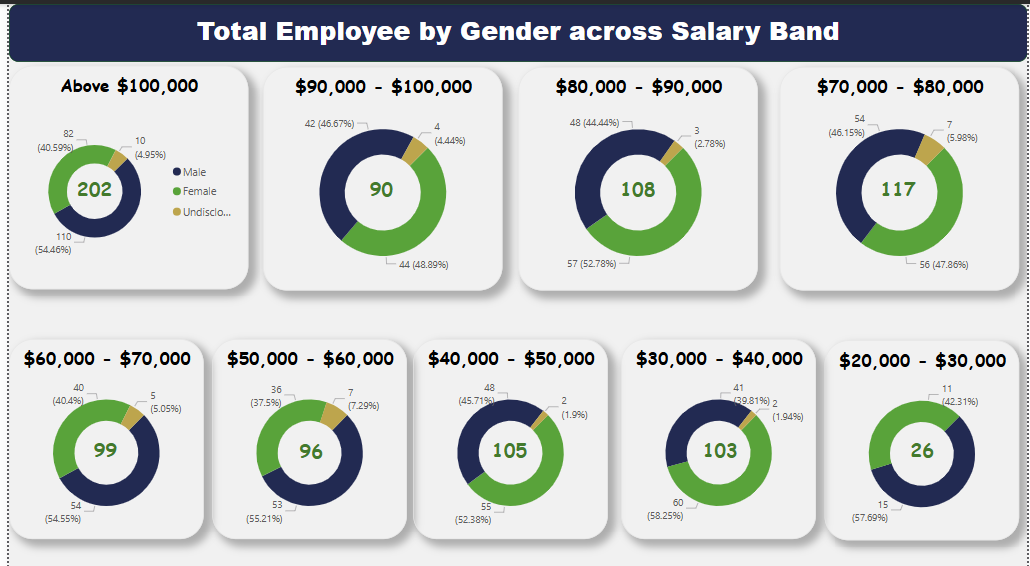

The page's visual inventory and layout, read from the dashboard file:
{"tool":"powerbi","page":{"name":"Page 3","canvas":[1280,720],"ordinal":2},"visuals":[{"type":"textbox","box":[0,0,1280.3,72.9],"z":0},{"type":"donutChart","title":"Above $100,000","fields":{"Series":["Palmoria Group emp-data.Salary Band"],"Category":["Palmoria Group emp-data.Gender"],"Y":["Palmoria Group emp-data.TotalEmployee"]},"box":[0,80.6,301.1,281.3],"z":1000},{"type":"donutChart","title":"$90,000 - $100,000","fields":{"Series":["Palmoria Group emp-data.Salary Band"],"Category":["Palmoria Group emp-data.Gender"],"Y":["Palmoria Group emp-data.TotalEmployee"]},"box":[319.3,79.1,301.1,281.3],"z":2000},{"type":"donutChart","title":"$80,000 - $90,000","fields":{"Series":["Palmoria Group emp-data.Salary Band"],"Category":["Palmoria Group emp-data.Gender"],"Y":["Palmoria Group emp-data.TotalEmployee"]},"box":[640.2,79.1,301.1,281.3],"z":3000},{"type":"donutChart","title":"$70,000 - $80,000","fields":{"Series":["Palmoria Group emp-data.Salary Band"],"Category":["Palmoria Group emp-data.Gender"],"Y":["Palmoria Group emp-data.TotalEmployee"]},"box":[968.6,79.1,301.1,281.3],"z":4000},{"type":"donutChart","title":"$60,000 - $70,000","fields":{"Series":["Palmoria Group emp-data.Salary Band"],"Category":["Palmoria Group emp-data.Gender"],"Y":["Palmoria Group emp-data.TotalEmployee"]},"box":[0,421.2,244.8,250.9],"z":5000},{"type":"donutChart","title":"$50,000 - $60,000","fields":{"Series":["Palmoria Group emp-data.Salary Band"],"Category":["Palmoria Group emp-data.Gender"],"Y":["Palmoria Group emp-data.TotalEmployee"]},"box":[258.5,421.2,244.8,250.9],"z":6000},{"type":"donutChart","title":"$40,000 - $50,000","fields":{"Series":["Palmoria Group emp-data.Salary Band"],"Category":["Palmoria Group emp-data.Gender"],"Y":["Palmoria Group emp-data.TotalEmployee"]},"box":[515.5,421.2,244.8,250.9],"z":7000},{"type":"donutChart","title":"$30,000 - $40,000","fields":{"Series":["Palmoria Group emp-data.Salary Band"],"Category":["Palmoria Group emp-data.Gender"],"Y":["Palmoria Group emp-data.TotalEmployee"]},"box":[772.5,421.2,244.8,250.9],"z":8000},{"type":"donutChart","title":"$20,000 - $30,000","fields":{"Series":["Palmoria Group emp-data.Salary Band"],"Category":["Palmoria Group emp-data.Gender"],"Y":["Palmoria Group emp-data.TotalEmployee"]},"box":[1028,421.2,244.8,250.9],"z":9000},{"type":"card","fields":{"Values":["Palmoria Group emp-data.TotalEmployee"]},"box":[746.8,204.5,87.1,58.7],"z":10000},{"type":"card","fields":{"Values":["Palmoria Group emp-data.TotalEmployee"]},"box":[108,222,86.7,59.3],"z":11000},{"type":"card","fields":{"Values":["Palmoria Group emp-data.TotalEmployee"]},"box":[1075.1,203.8,88.2,59.3],"z":12000},{"type":"card","fields":{"Values":["Palmoria Group emp-data.TotalEmployee"]},"box":[78.2,531.7,87.1,58.7],"z":13000},{"type":"card","fields":{"Values":["Palmoria Group emp-data.TotalEmployee"]},"box":[336.1,533.4,87.1,58.7],"z":14000},{"type":"card","fields":{"Values":["Palmoria Group emp-data.TotalEmployee"]},"box":[593.1,533.7,86.7,57.8],"z":15000},{"type":"card","fields":{"Values":["Palmoria Group emp-data.TotalEmployee"]},"box":[850,531.7,87.1,58.7],"z":16000},{"type":"card","fields":{"Values":["Palmoria Group emp-data.TotalEmployee"]},"box":[1104.2,531.7,87.1,58.7],"z":17000},{"type":"card","fields":{"Values":["Palmoria Group emp-data.TotalEmployee"]},"box":[425,204.5,87.1,58.7],"z":18000}]}

Visuals, with their boxes in screenshot pixels (x1, y1, x2, y2), scaled from the page's 1280x720 canvas onto the 1030x566 screenshot:
textbox: [0, 0, 1029, 57]
"Above $100,000" donutChart: [0, 63, 242, 284]
"$90,000 - $100,000" donutChart: [257, 62, 499, 283]
"$80,000 - $90,000" donutChart: [515, 62, 757, 283]
"$70,000 - $80,000" donutChart: [779, 62, 1022, 283]
"$60,000 - $70,000" donutChart: [0, 331, 197, 528]
"$50,000 - $60,000" donutChart: [208, 331, 405, 528]
"$40,000 - $50,000" donutChart: [415, 331, 612, 528]
"$30,000 - $40,000" donutChart: [622, 331, 819, 528]
"$20,000 - $30,000" donutChart: [827, 331, 1024, 528]
card - Palmoria Group emp-data.TotalEmployee: [601, 161, 671, 207]
card - Palmoria Group emp-data.TotalEmployee: [87, 175, 157, 221]
card - Palmoria Group emp-data.TotalEmployee: [865, 160, 936, 207]
card - Palmoria Group emp-data.TotalEmployee: [63, 418, 133, 464]
card - Palmoria Group emp-data.TotalEmployee: [270, 419, 341, 465]
card - Palmoria Group emp-data.TotalEmployee: [477, 420, 547, 465]
card - Palmoria Group emp-data.TotalEmployee: [684, 418, 754, 464]
card - Palmoria Group emp-data.TotalEmployee: [889, 418, 959, 464]
card - Palmoria Group emp-data.TotalEmployee: [342, 161, 412, 207]
